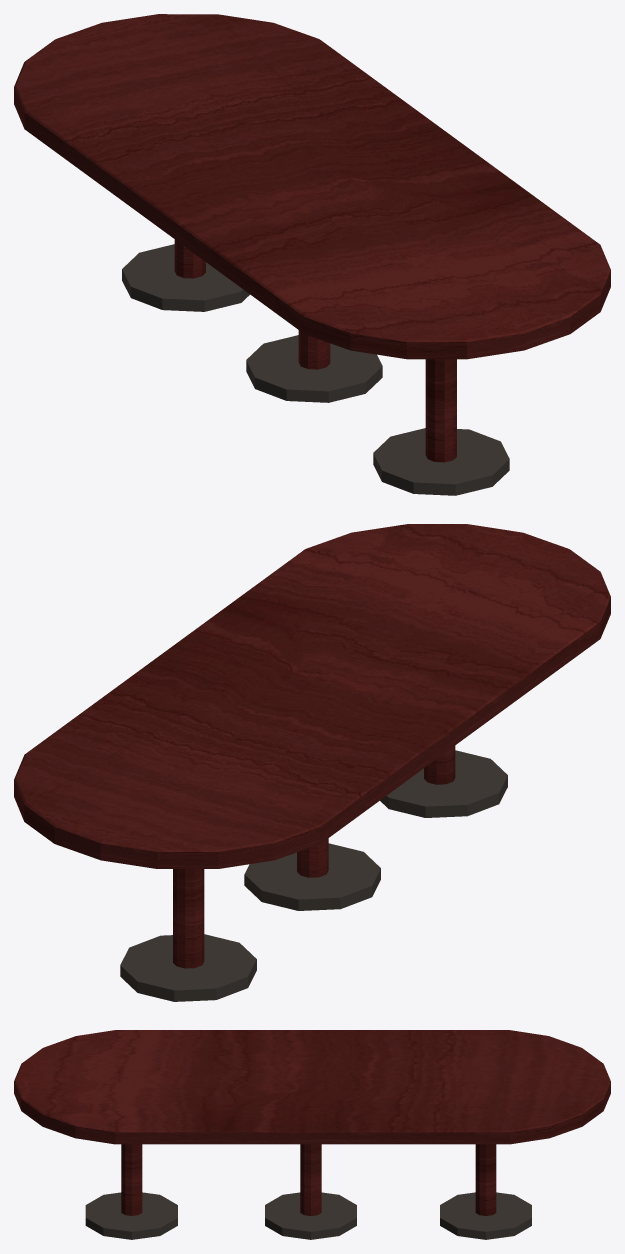
The model's file is 会议桌.obj.
3 renders of one model, top to bottom at view 1: azimuth 30°, elevation 25°; view 2: azimuth 150°, elevation 25°; view 3: azimuth 270°, elevation 25°, orthographic. The views are drawn at different scales.
Visible parts, largest first — view 1: Cylinder040, Cylinder043, Cylinder045, Cylinder041, Cylinder044, Cylinder046, Cylinder042; view 2: Cylinder040, Cylinder041, Cylinder045, Cylinder043, Cylinder042, Cylinder046, Cylinder044; view 3: Cylinder040, Cylinder043, Cylinder041, Cylinder045, Cylinder046, Cylinder042, Cylinder044.
Boxes of the visible parts, x1,y1,x2,y2 form: Cylinder040: (14,14,610,359); Cylinder043: (373,428,509,495); Cylinder045: (246,335,382,402); Cylinder041: (122,244,249,311); Cylinder044: (425,359,456,462); Cylinder046: (298,330,330,369); Cylinder042: (174,239,205,278); Cylinder040: (14,524,610,868); Cylinder041: (120,934,256,1001); Cylinder045: (244,843,380,910); Cylinder043: (380,750,507,817); Cylinder042: (173,869,204,968); Cylinder046: (297,838,328,877); Cylinder044: (424,746,455,784); Cylinder040: (14,1030,610,1144); Cylinder043: (85,1192,177,1239); Cylinder041: (440,1192,531,1239); Cylinder045: (265,1192,356,1239); Cylinder046: (300,1144,321,1215); Cylinder042: (475,1144,496,1215); Cylinder044: (121,1144,142,1215).
Size of the model in its own units: 131 by 83.08 by 324.
